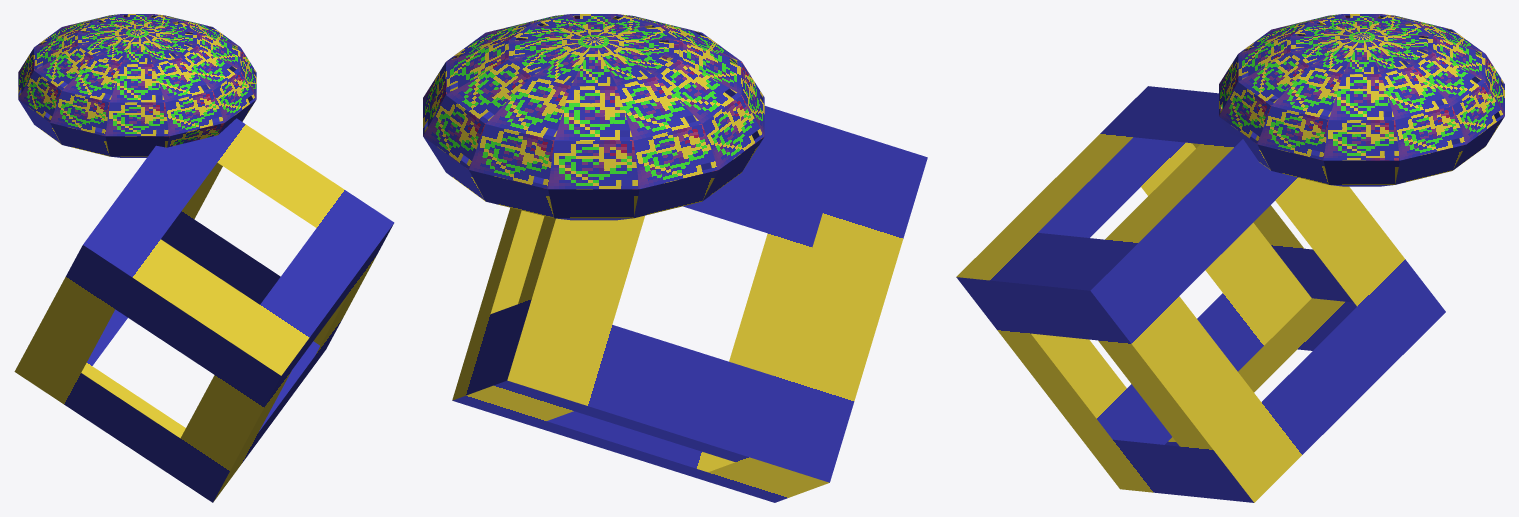
The picture shows the model from 3 angles, left to right: view 1: azimuth 30°, elevation 25°; view 2: azimuth 150°, elevation 25°; view 3: azimuth 270°, elevation 25°; orthographic projection. The views are drawn at different scales.
Parts seen in each view (by area): view 1: cube, sphere; view 2: cube, sphere; view 3: cube, sphere.
Part boxes in pixels (box(x1,y1,x2,y2)): cube: box(14, 117, 394, 502); sphere: box(18, 14, 256, 157); cube: box(452, 69, 927, 502); sphere: box(423, 14, 764, 220); cube: box(956, 86, 1445, 502); sphere: box(1219, 14, 1504, 186).
Bounding box in the file's own units: 279 × 362 × 384.
1 material, 1 textured.
